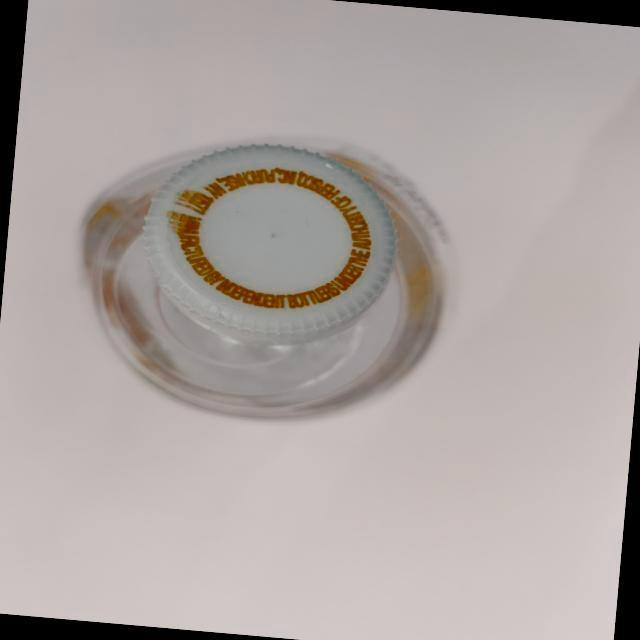plastic: (34, 99, 488, 451)
